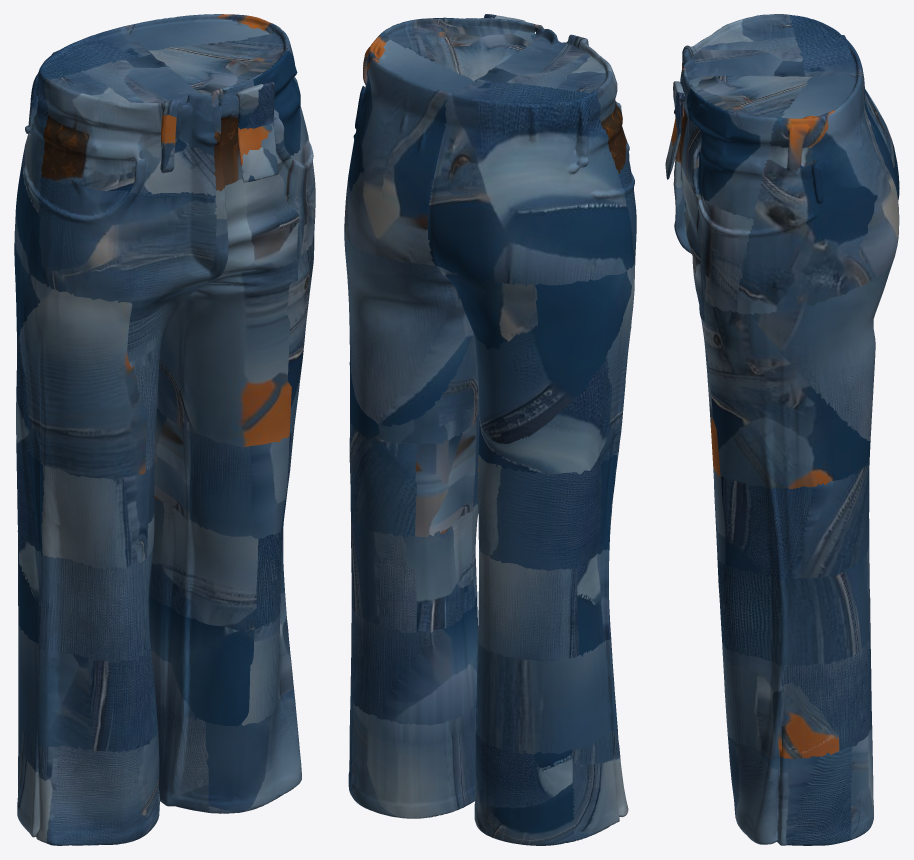
The model's file is jeans2.glb.
3 renders of one model, left to right at view 1: azimuth 30°, elevation 25°; view 2: azimuth 150°, elevation 25°; view 3: azimuth 270°, elevation 25°, orthographic. The views are drawn at different scales.
Parts seen in each view (by area): view 1: garment; view 2: garment; view 3: garment.
Part boxes in pixels (box(x1,y1,x2,y2)): garment: box(14, 14, 315, 845); garment: box(344, 14, 636, 845); garment: box(665, 14, 899, 845).
Size of the model in its own units: 0.3808 by 0.9999 by 0.2923.
Materials: 1 (1 with a texture image).
